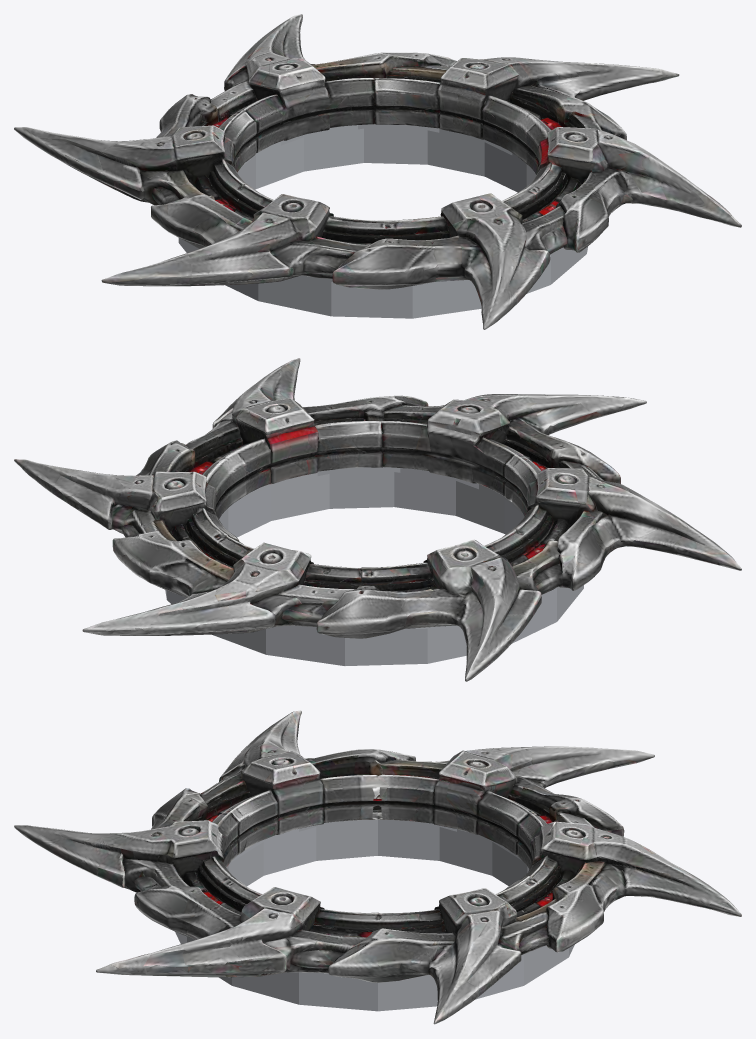
Rendered from shard.glb.
The picture shows the model from 3 angles, top to bottom: view 1: azimuth 30°, elevation 25°; view 2: azimuth 150°, elevation 25°; view 3: azimuth 270°, elevation 25°; orthographic projection. The views are drawn at different scales.
Visible parts, largest first — view 1: mesh_node; view 2: mesh_node; view 3: mesh_node.
Boxes of the visible parts, x1,y1,x2,y2 form: mesh_node: [14, 14, 741, 329]; mesh_node: [14, 358, 741, 681]; mesh_node: [14, 710, 741, 1024].
Size of the model in its own units: 39.26 by 5.67 by 38.76.
2 materials, 1 textured.
